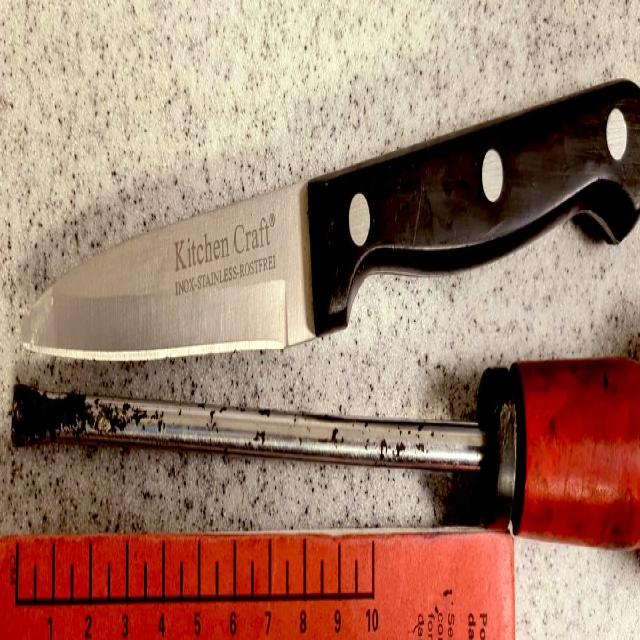Sharp-Object: (17, 73, 640, 362)
